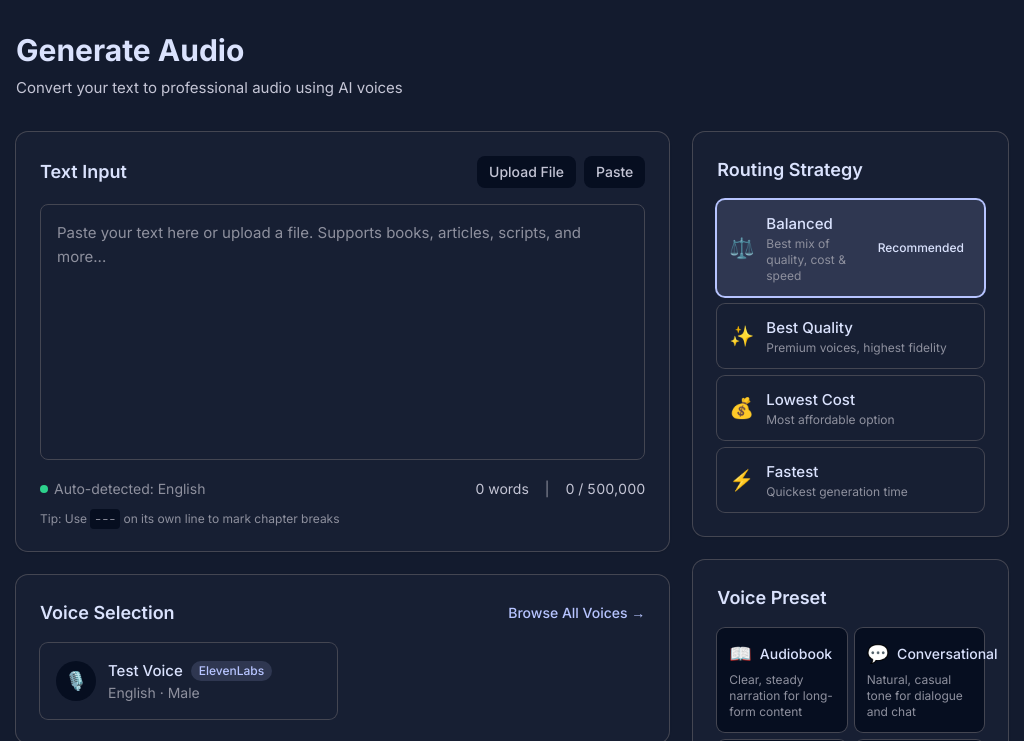
Test: Character Limits on Generate Page › updates character count as user types
Replace the text in the text box with placeholder "Paste your text" with "Hello" at (343,332), box [40, 204, 645, 460]
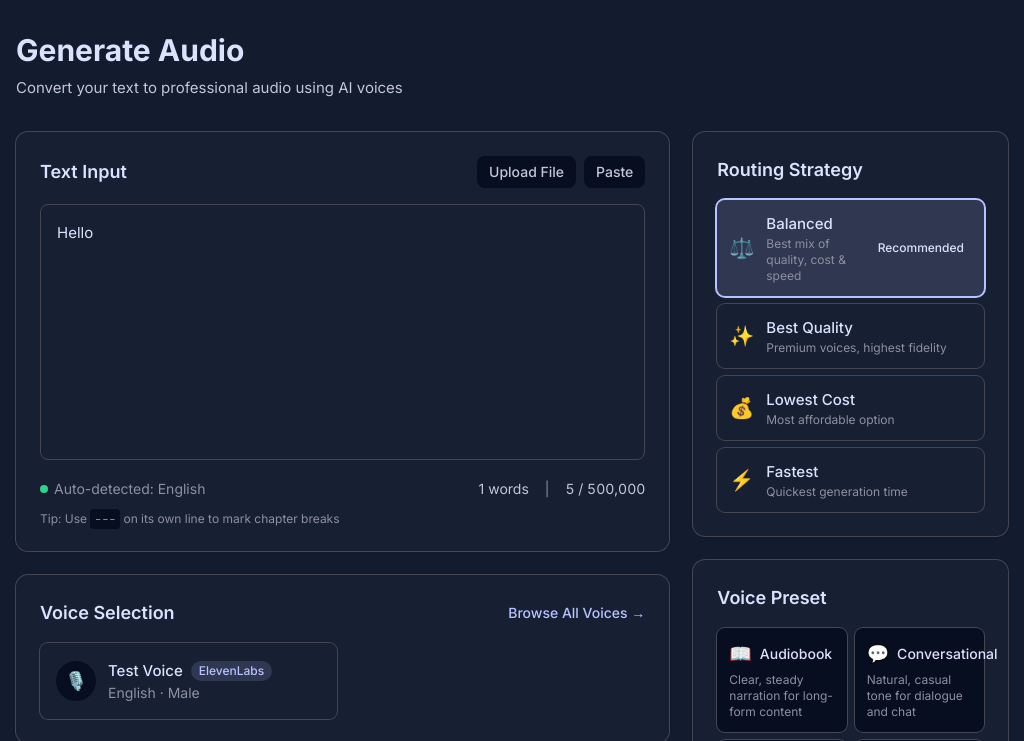
expect the text "5 / 500,000" is shown: met, box [565, 479, 645, 499]
